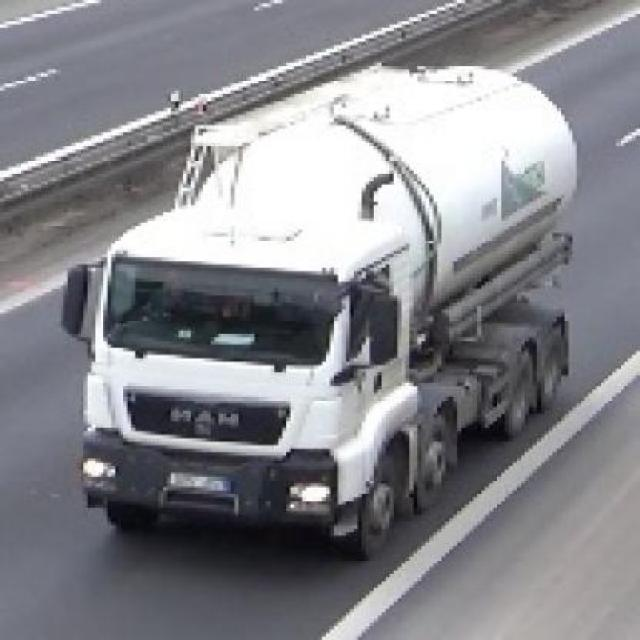truck: (57, 59, 574, 558)
